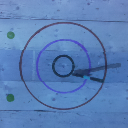Axe Tip: (77, 71, 89, 75)
